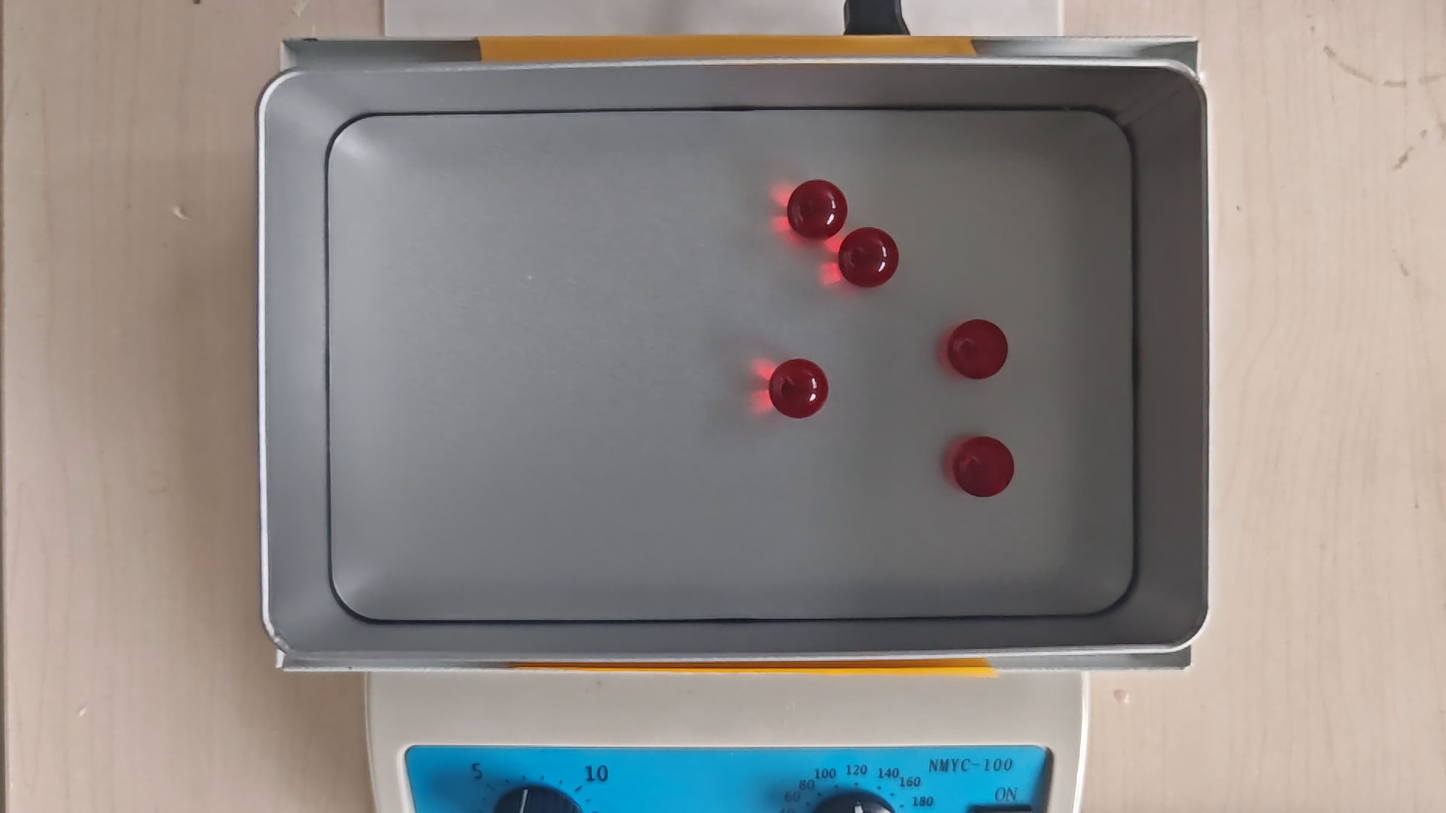ball: (955, 434, 1015, 500), (837, 227, 898, 288), (950, 318, 1008, 381), (789, 178, 847, 241), (768, 358, 827, 418)
container: (324, 108, 1129, 618)
